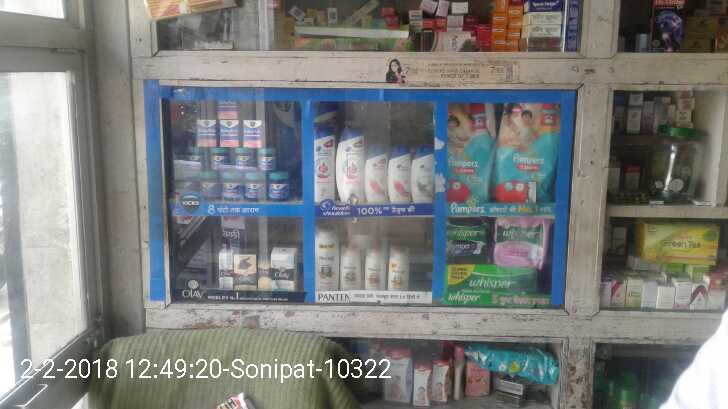beauty: (331, 123, 364, 200), (314, 123, 335, 213), (381, 143, 411, 206), (314, 219, 338, 294), (409, 145, 438, 203), (268, 246, 302, 292), (339, 238, 364, 288), (231, 252, 261, 291), (386, 240, 408, 290), (366, 144, 385, 200), (365, 241, 388, 285)
pharmacy: (494, 102, 552, 205), (441, 100, 493, 205), (493, 212, 549, 270), (445, 218, 495, 270), (190, 169, 219, 205), (191, 116, 221, 150), (240, 169, 270, 201), (215, 94, 249, 122), (267, 173, 300, 201), (218, 173, 245, 198), (218, 118, 242, 146), (244, 122, 269, 140), (257, 153, 283, 170), (232, 145, 252, 164)
